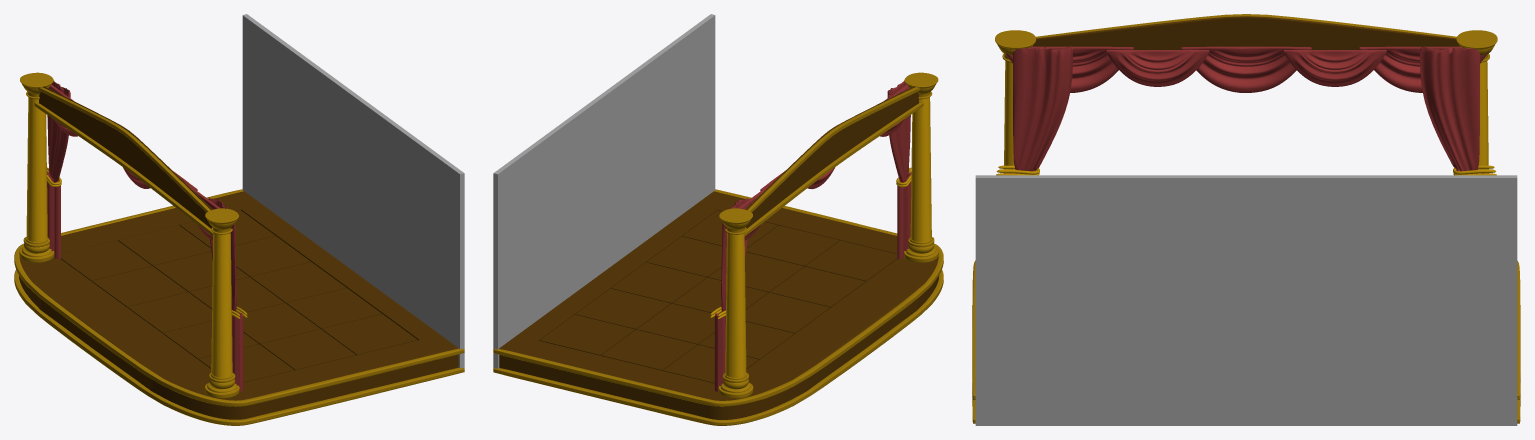
The model's file is Stage 2.fbx.
3 views of the same model, side by side, from view 1: azimuth 30°, elevation 25°; view 2: azimuth 150°, elevation 25°; view 3: azimuth 270°, elevation 25° (orthographic). The views are drawn at different scales.
Visible parts, largest first — view 1: Stage_Back, Main_Stage, Stage_Trim_Top, Curtain_Bottom_L1, Stage_Header, Stage_Trim_Bottom, Column_Mid_R1, Column_Mid_R, Plat_Mid_5, Plat_Back_3, Plat_Front_2, Plat_Back_5 (+17 smaller); view 2: Stage_Back, Main_Stage, Stage_Trim_Top, Curtain_Bottom_L1, Stage_Header, Stage_Trim_Bottom, Column_Mid_R, Column_Mid_R1, Plat_Back_1, Plat_Mid_1, Plat_Back_3, Plat_Back_2 (+17 smaller); view 3: Stage_Back, Curtain_Bottom_L1, Stage_Header, Stage_Header_Trim_Top, Stage_Trim_Top, Column_Mid_R1, Column_Mid_R, Column_Top_R, Column_Top_L.
Part boxes in pixels (box(x1,y1,x2,y2)): Stage_Back: box(242, 14, 464, 372); Main_Stage: box(19, 191, 458, 419); Stage_Trim_Top: box(14, 189, 464, 406); Curtain_Bottom_L1: box(47, 80, 243, 391); Stage_Header: box(39, 86, 212, 228); Stage_Trim_Bottom: box(14, 269, 464, 425); Column_Mid_R1: box(211, 233, 232, 377); Column_Mid_R: box(26, 97, 47, 242); Plat_Mid_5: box(260, 329, 355, 370); Plat_Back_3: box(251, 262, 346, 303); Plat_Front_2: box(92, 266, 187, 307); Plat_Back_5: box(322, 314, 417, 355); Stage_Back: box(493, 14, 715, 372); Main_Stage: box(499, 191, 939, 419); Stage_Trim_Top: box(493, 189, 943, 406); Curtain_Bottom_L1: box(714, 80, 911, 391); Stage_Header: box(745, 86, 918, 228); Stage_Trim_Bottom: box(493, 270, 943, 425); Column_Mid_R: box(725, 232, 746, 378); Column_Mid_R1: box(910, 97, 931, 242); Plat_Back_1: box(539, 314, 635, 355); Plat_Mid_1: box(601, 329, 697, 370); Plat_Back_3: box(611, 262, 706, 303); Plat_Back_2: box(575, 288, 670, 329); Stage_Back: box(975, 175, 1517, 425); Curtain_Bottom_L1: box(1004, 46, 1488, 174); Stage_Header: box(1033, 16, 1459, 49); Stage_Header_Trim_Top: box(1036, 14, 1456, 38); Stage_Trim_Top: box(972, 260, 1520, 399); Column_Mid_R1: box(1004, 61, 1014, 165); Column_Mid_R: box(1478, 61, 1488, 165); Column_Top_R: box(995, 30, 1036, 62); Column_Top_L: box(1456, 30, 1497, 62).
Bounding box in the file's own units: 7.45 × 5.86 × 10.74.
